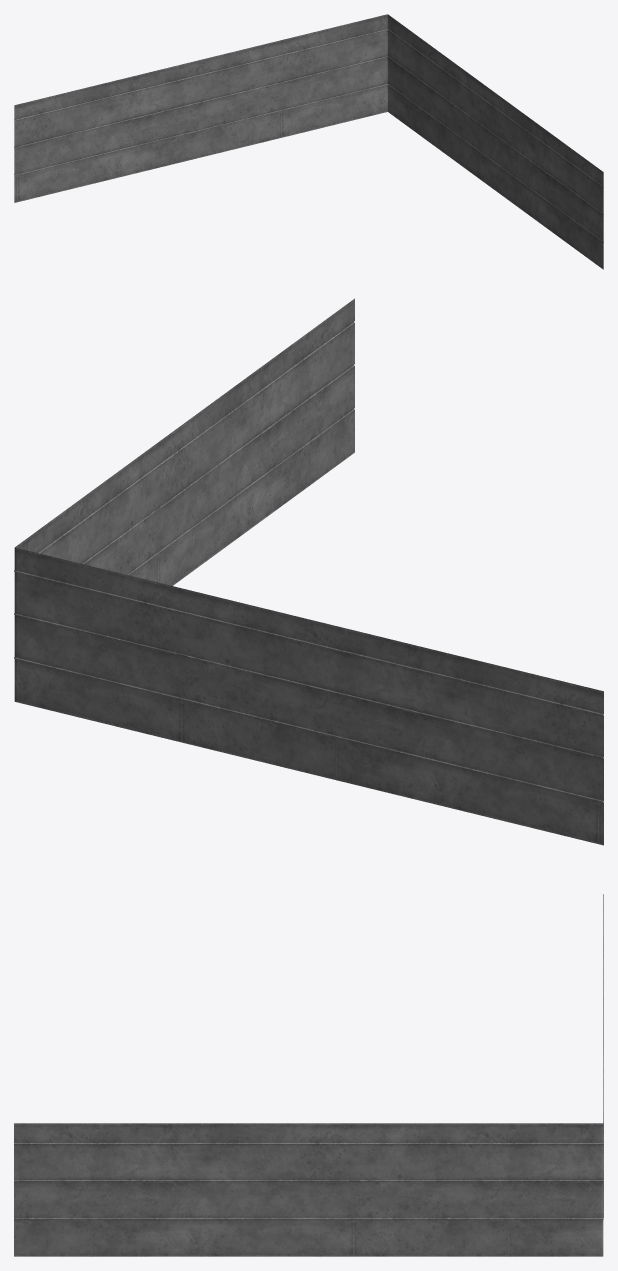
File: SM_Wall_12.fbx
3 renders of one model, top to bottom at view 1: azimuth 30°, elevation 25°; view 2: azimuth 150°, elevation 25°; view 3: azimuth 270°, elevation 25°, orthographic. The views are drawn at different scales.
Parts seen in each view (by area): view 1: SM_Wall_12; view 2: SM_Wall_12; view 3: SM_Wall_12.
Part boxes in pixels (x1,y1,x2,y2): SM_Wall_12: (14,14,603,269); SM_Wall_12: (14,298,603,845); SM_Wall_12: (14,894,603,1256).
Size of the model in its own units: 400 by 100 by 400.
